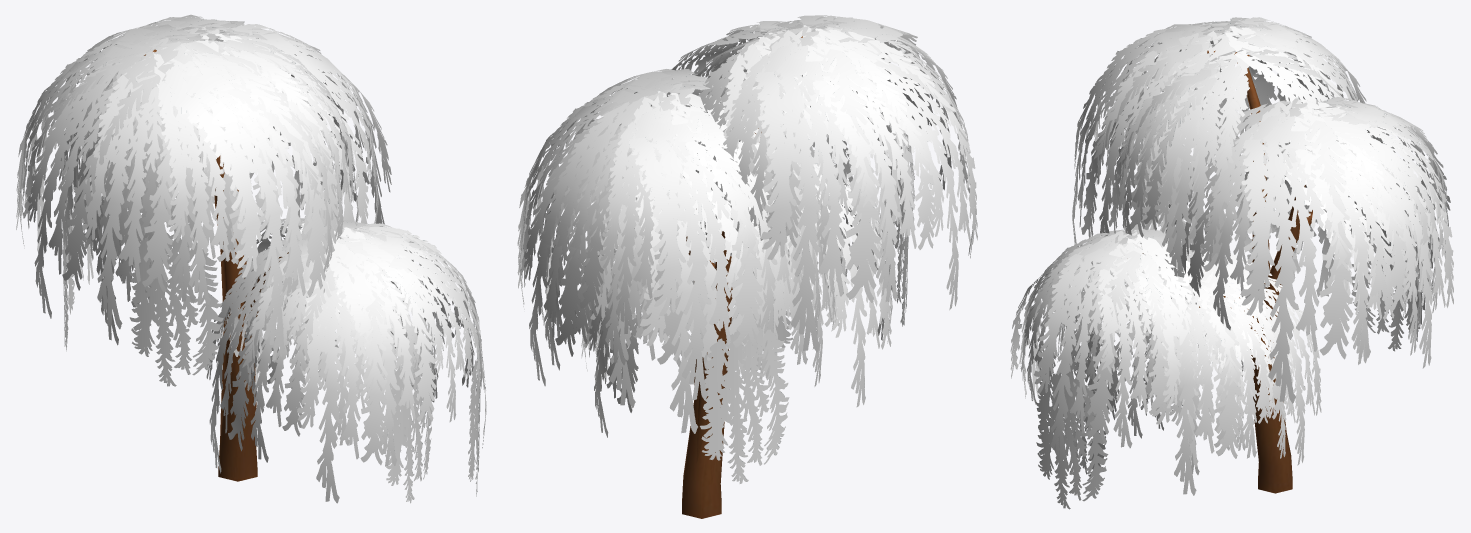
File: STWillow3.glb
3 renders of one model, left to right at view 1: azimuth 30°, elevation 25°; view 2: azimuth 150°, elevation 25°; view 3: azimuth 270°, elevation 25°, orthographic. The views are drawn at different scales.
Visible parts, largest first — view 1: WillowTree3; view 2: WillowTree3; view 3: WillowTree3.
Boxes of the visible parts, x1,y1,x2,y2 form: WillowTree3: (16,14,486,503); WillowTree3: (517,15,977,518); WillowTree3: (1010,17,1453,509).
Size of the model in its own units: 14.1 by 16.96 by 16.41.
Materials: 2 (2 with a texture image).
